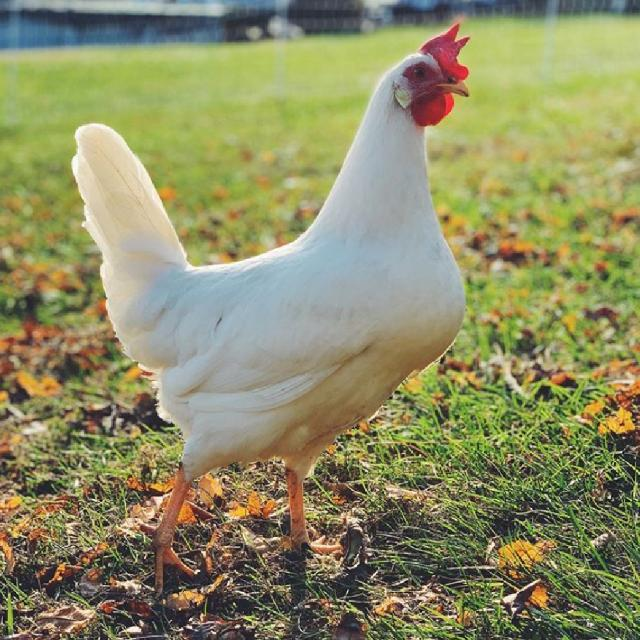Chicken: (73, 17, 470, 580)
